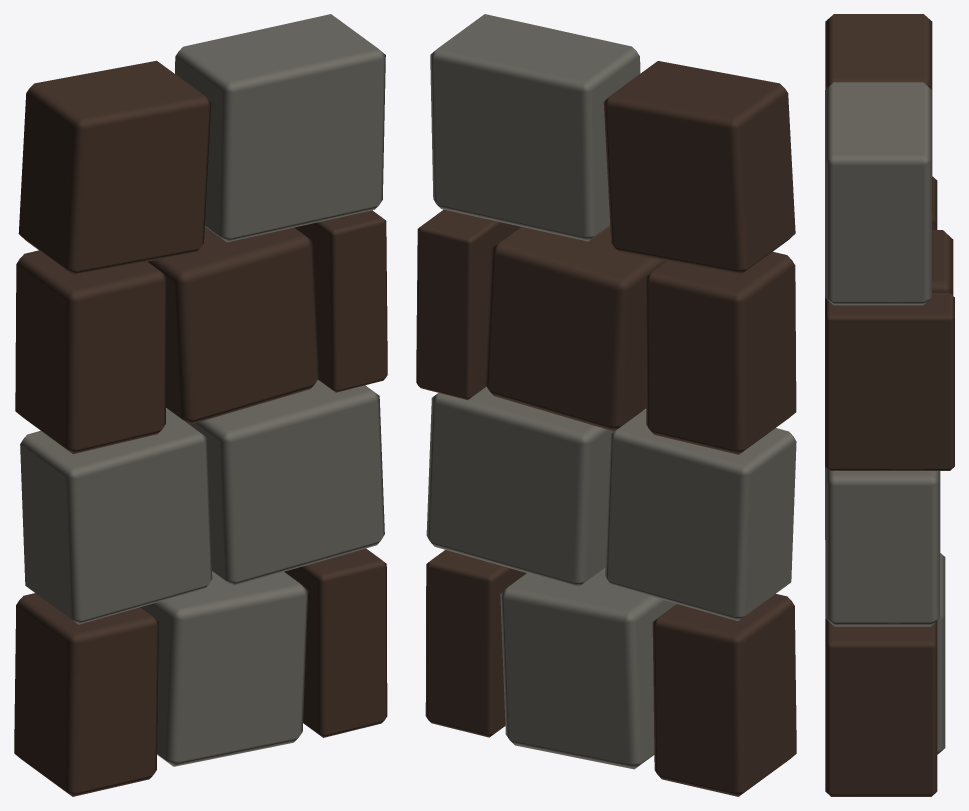
The model's file is village-cliff-face.81e83db3.glb.
3 renders of one model, left to right at view 1: azimuth 30°, elevation 25°; view 2: azimuth 150°, elevation 25°; view 3: azimuth 270°, elevation 25°, orthographic. The views are drawn at different scales.
Parts seen in each view (by area): view 1: body; view 2: body; view 3: body.
Part boxes in pixels (x1=…): body: x1=14, y1=14, x2=387, y2=796; body: x1=416, y1=14, x2=796, y2=796; body: x1=825, y1=14, x2=954, y2=796.
Size of the model in its own units: 0.9792 by 1.98 by 0.361.
